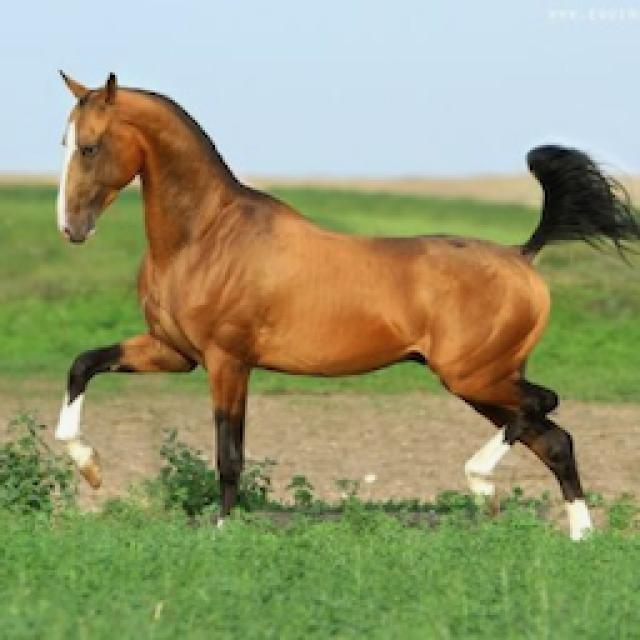Horse: (40, 62, 638, 546)
